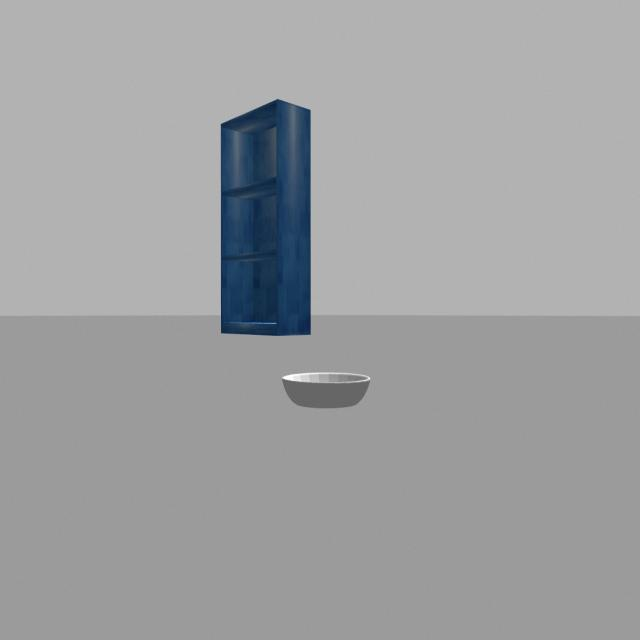bowl: (276, 356, 384, 424)
shelf: (204, 93, 336, 350)
